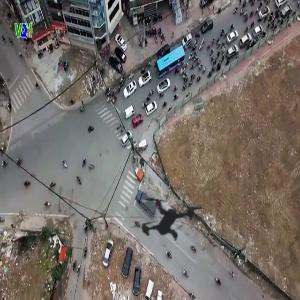drone: (114, 164, 223, 273)
